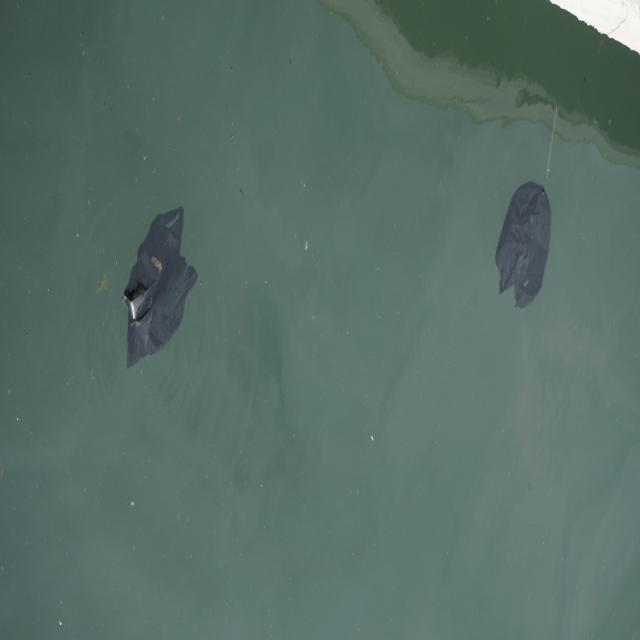Kantong Plastik: (122, 202, 201, 370), (493, 177, 552, 314)
